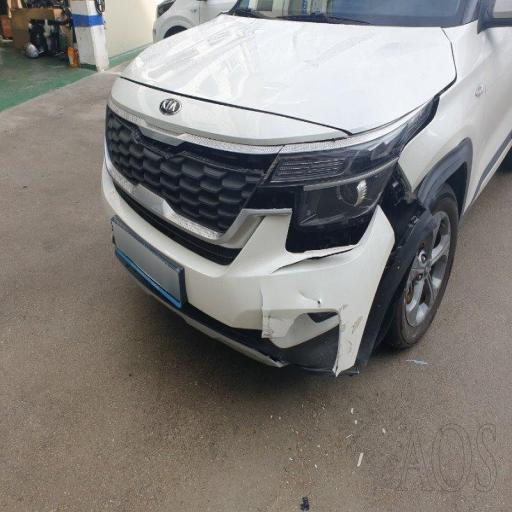broken: (249, 166, 381, 285)
dent: (246, 270, 366, 386)
